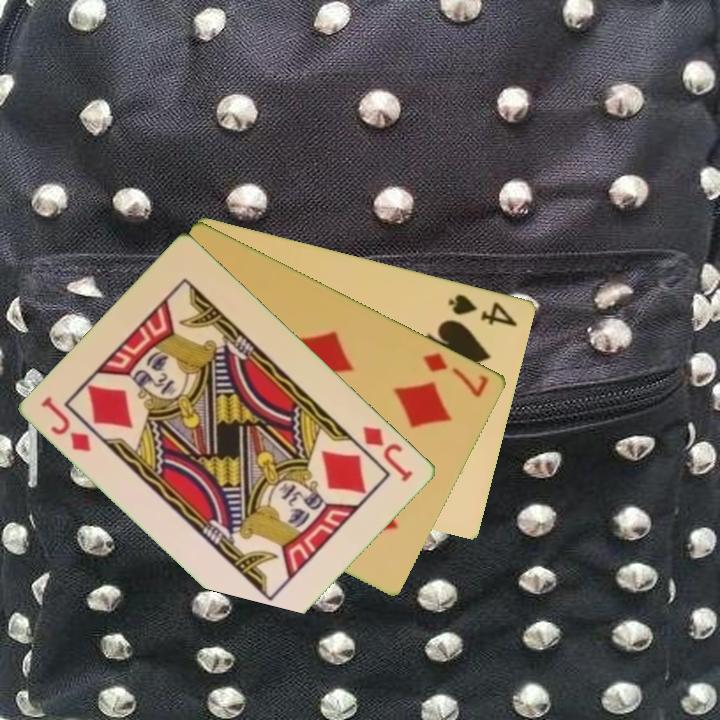4s: (445, 290, 522, 329)
7d: (419, 349, 492, 401)
Jd: (359, 422, 417, 485), (38, 392, 95, 455)
